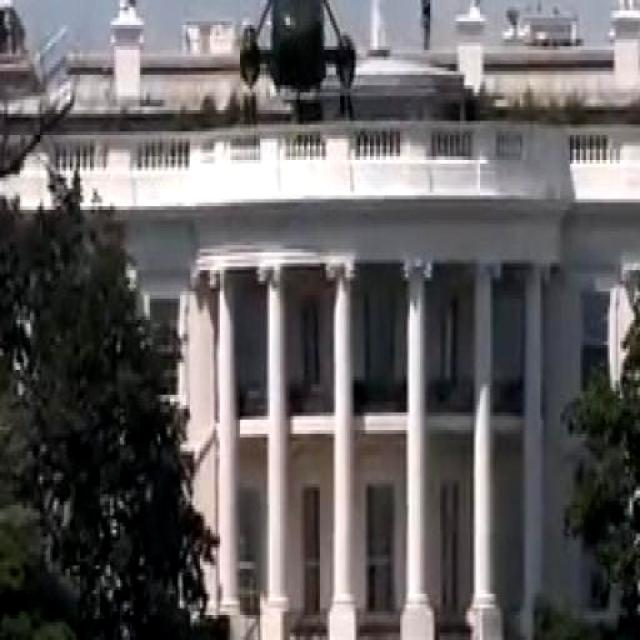drone: (168, 0, 394, 91)
